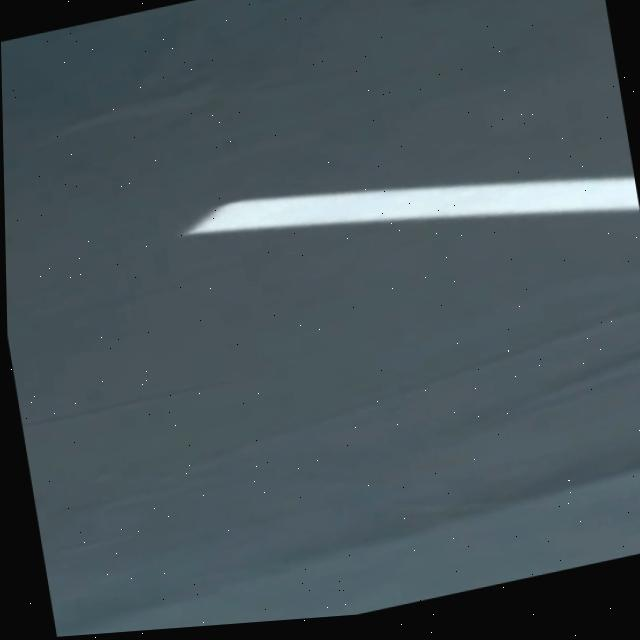center: (184, 177, 640, 235)
